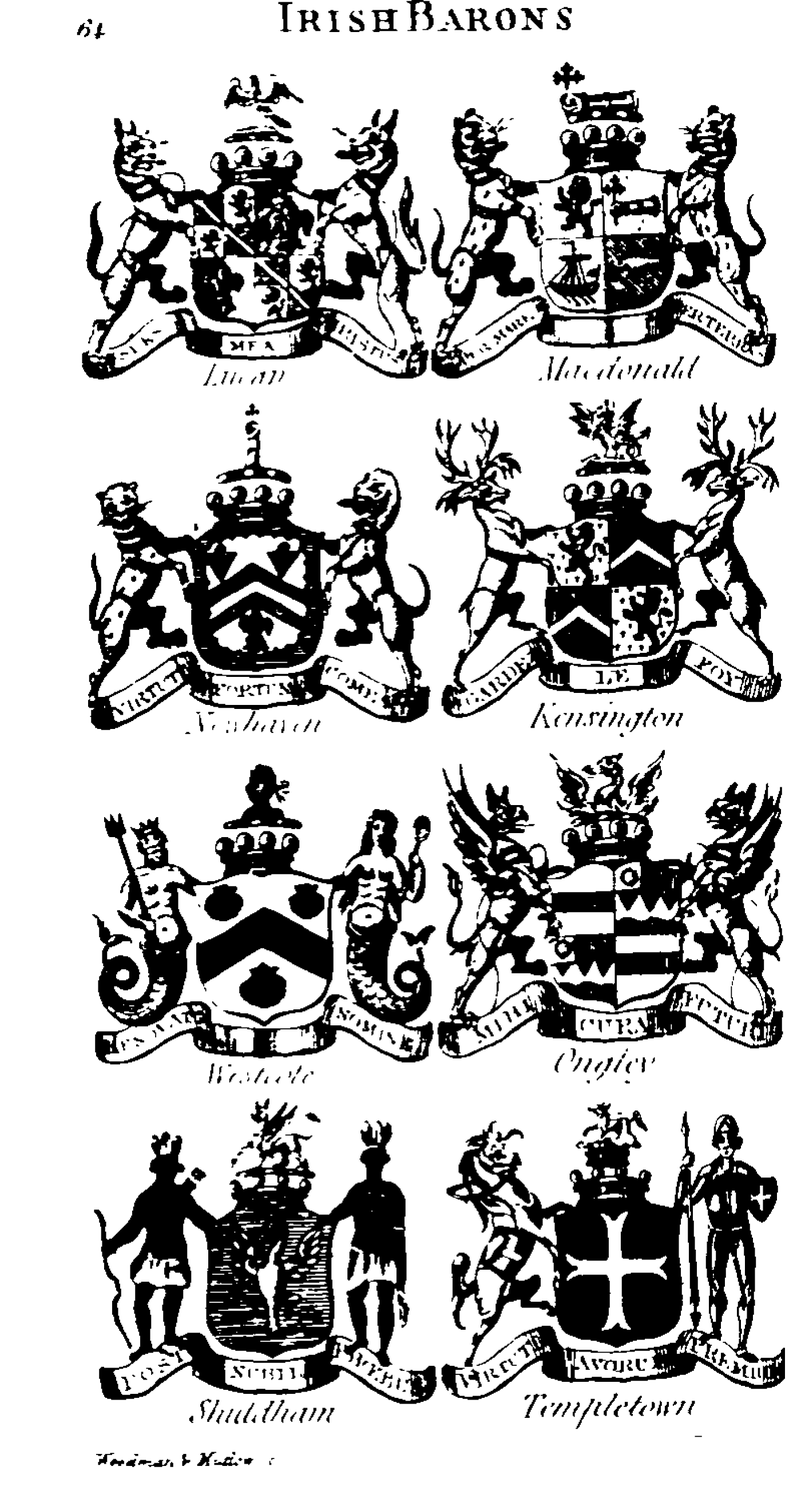coat_of_arms: (427, 399, 801, 736), (75, 56, 433, 408), (430, 745, 791, 1087), (67, 401, 433, 738), (86, 754, 435, 1095), (435, 1098, 791, 1432), (82, 1101, 441, 1429), (429, 56, 780, 390)
